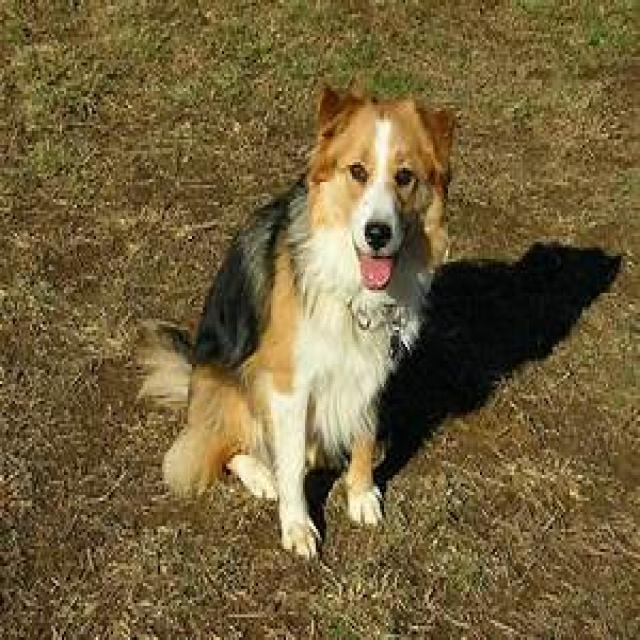dog: (143, 82, 459, 560)
